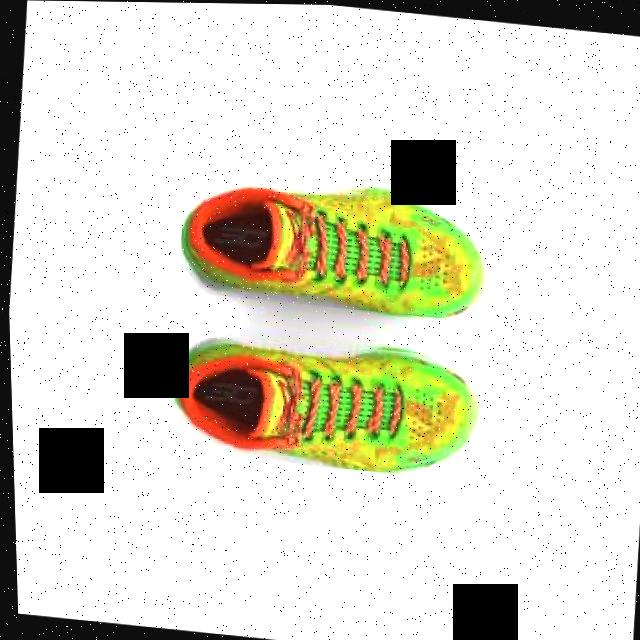shoe: (161, 322, 481, 480), (173, 169, 492, 321)
